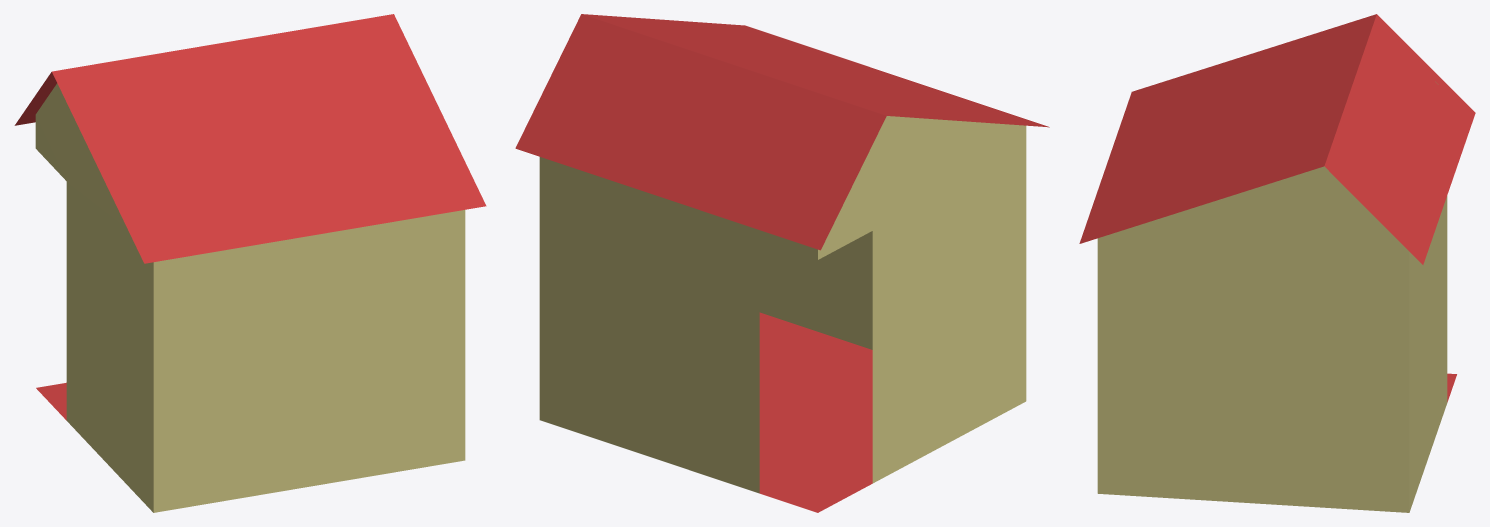
3 views of the same model, side by side, from view 1: azimuth 30°, elevation 25°; view 2: azimuth 150°, elevation 25°; view 3: azimuth 270°, elevation 25° (orthographic). The views are drawn at different scales.
Bounding box in the file's own units: 12.66 × 12.22 × 11.85.
